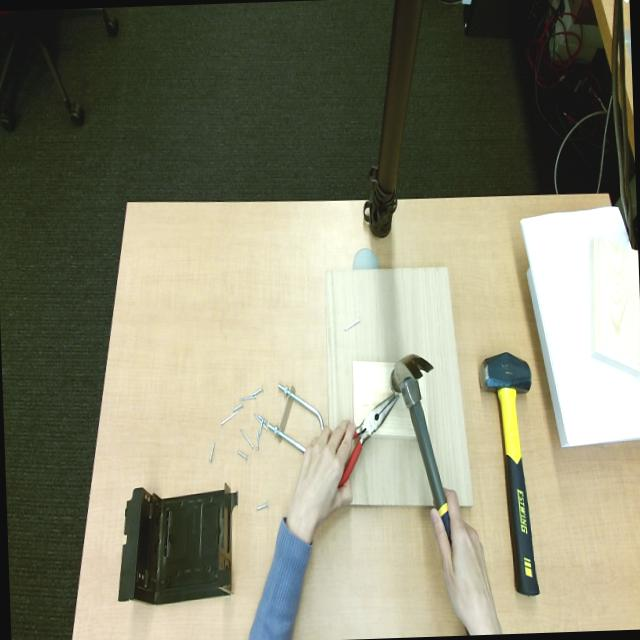hammer: (479, 351, 538, 595), (390, 355, 450, 540)
pliers: (338, 393, 398, 486)
